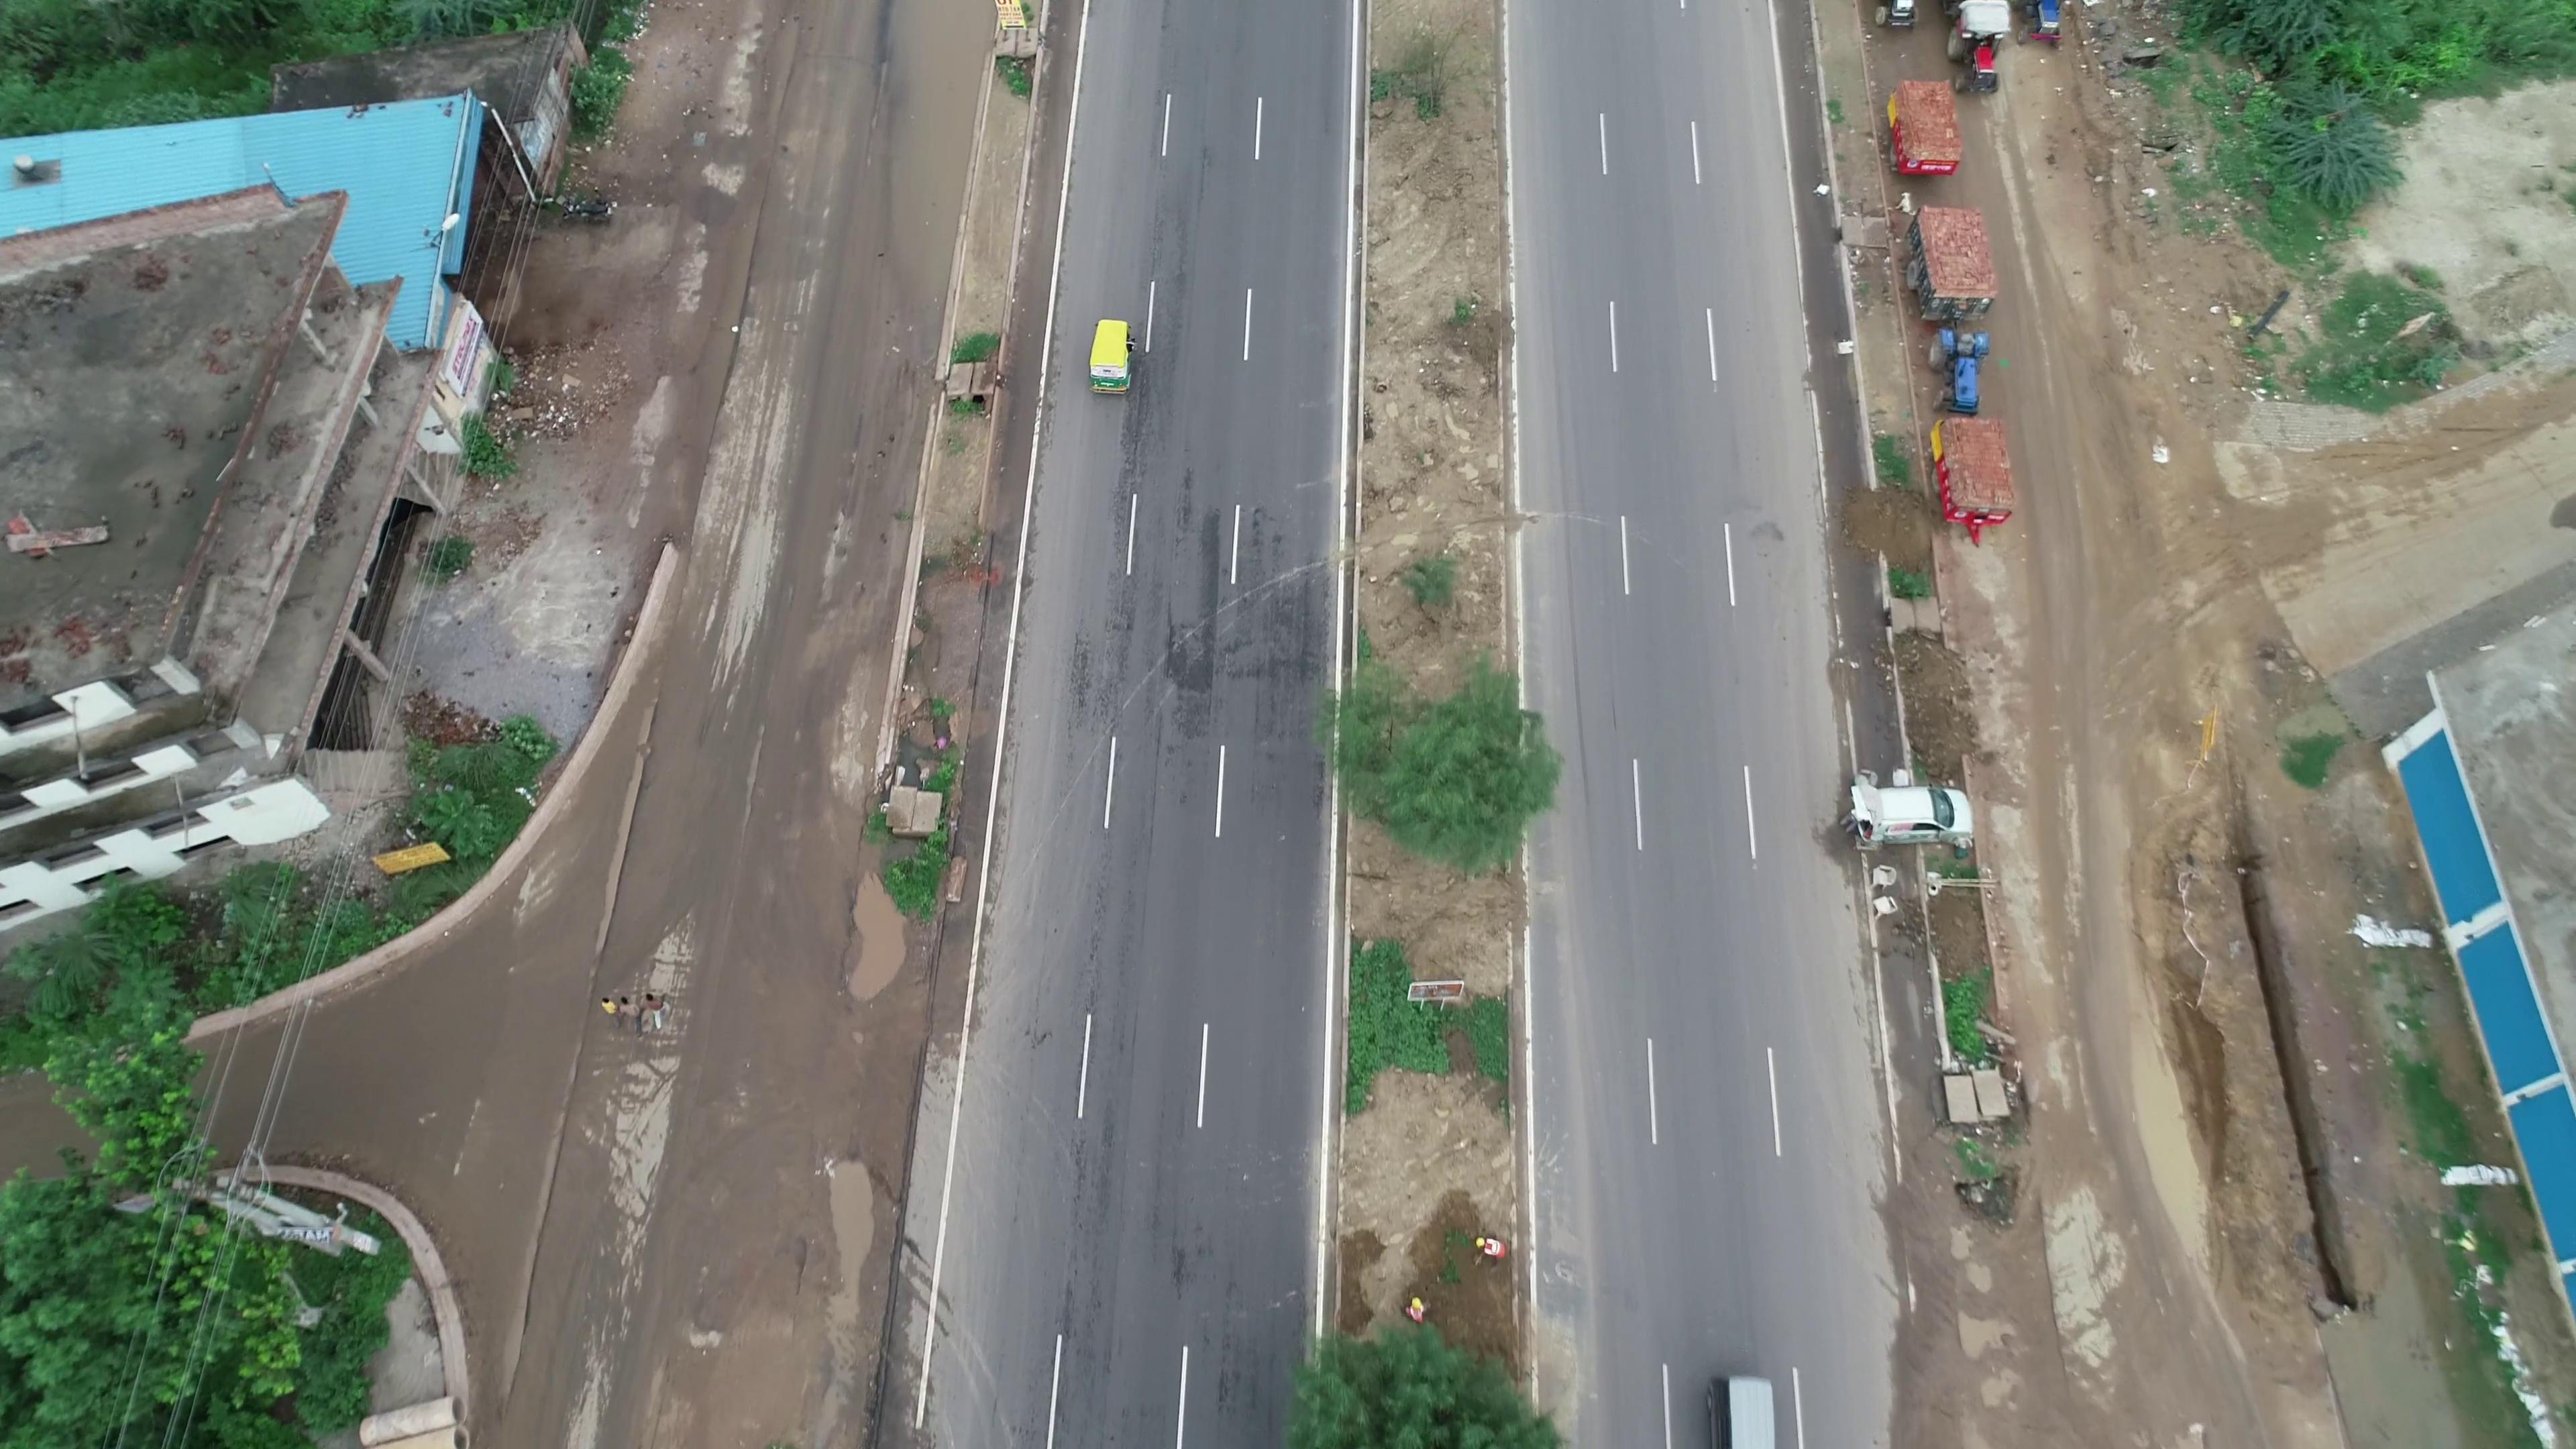Muddy_road: (2024, 372, 2158, 793), (2112, 860, 2249, 1215)
Potholes: (824, 867, 922, 1010)
Ravelling: (1146, 518, 1322, 701), (1062, 402, 1161, 722)
